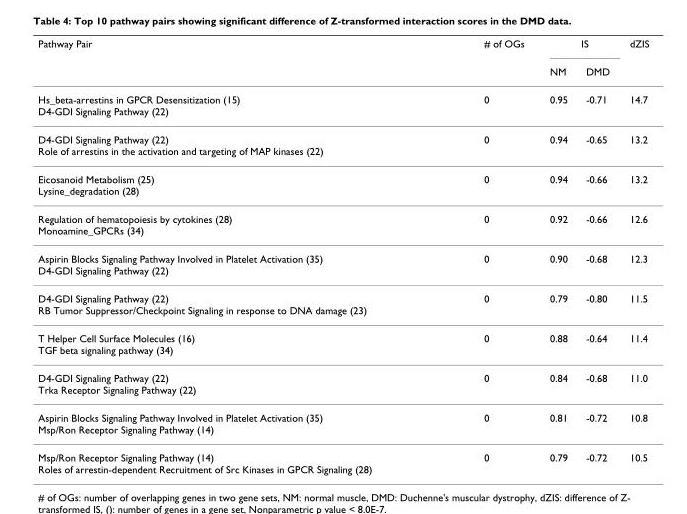table: (37, 36, 648, 474)
table column: (37, 36, 427, 474), (427, 36, 536, 474), (576, 36, 619, 474), (536, 36, 576, 474), (619, 36, 648, 474)
table column header: (37, 36, 648, 85)
table row: (37, 124, 648, 164), (37, 164, 648, 204), (37, 204, 648, 244), (37, 283, 648, 323), (37, 323, 648, 363), (37, 363, 648, 403), (37, 85, 648, 124), (37, 244, 648, 283), (37, 403, 648, 442), (37, 442, 648, 474), (37, 56, 648, 85), (37, 36, 648, 56)
table spanning cell: (37, 36, 427, 85), (427, 36, 536, 85), (536, 36, 619, 56), (619, 36, 648, 85)
